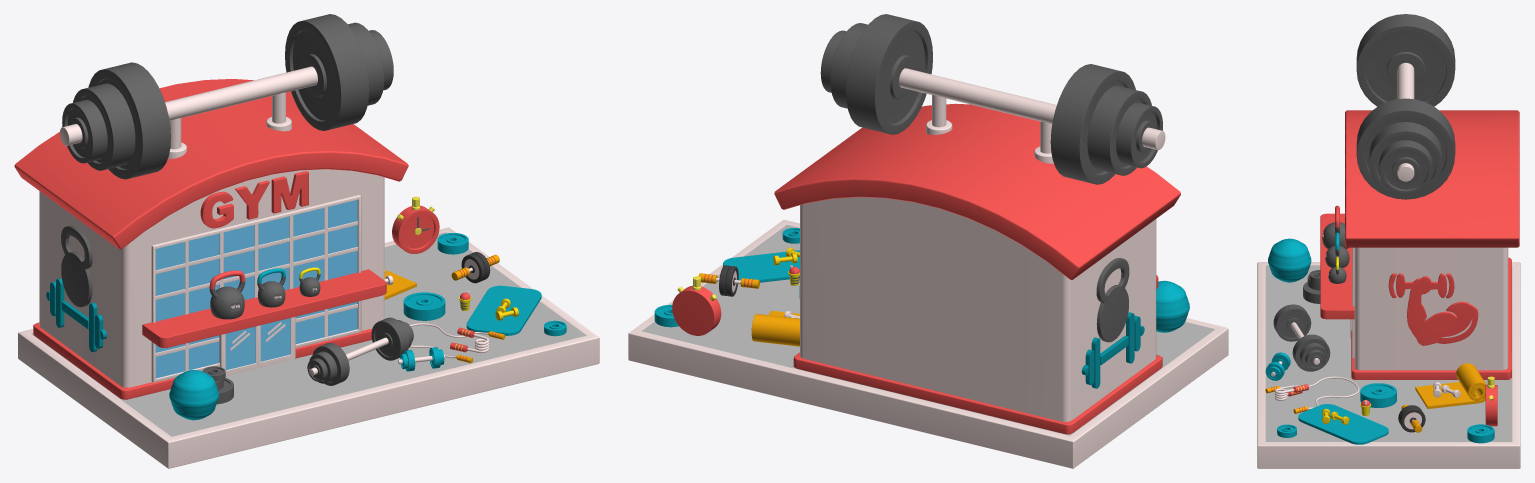
Rendered from Public_Island_18.glb.
The picture shows the model from 3 angles, left to right: view 1: azimuth 30°, elevation 25°; view 2: azimuth 150°, elevation 25°; view 3: azimuth 270°, elevation 25°; orthographic projection. The views are drawn at different scales.
Visible parts, largest first — view 1: Public_18_Gym_1, Public_18_Base_1, Public_18_Gym_Sign_1, Public_18_Barbell_1, Public_18_Yoga_Mat_1, Public_18_Fitness_Ball_1, Public_18_Stopwatch_1, Public_18_Kettlebell_1, Public_18_Weight_4, Public_18_Roller_Wheel_1, Public_18_Kettlebell_2, Public_18_Barbell_2 (+1 smaller); view 2: Public_18_Gym_1, Public_18_Base_1, Public_18_Gym_Sign_1, Public_18_Stopwatch_1, Public_18_Yoga_Mat_1, Public_18_Fitness_Ball_1, Public_18_Yoga_Mat_2, Public_18_Roller_Wheel_1; view 3: Public_18_Gym_1, Public_18_Base_1, Public_18_Gym_Sign_2, Public_18_Barbell_1, Public_18_Yoga_Mat_1, Public_18_Yoga_Mat_2, Public_18_Fitness_Ball_1, Public_18_Weight_4, Public_18_Roller_Wheel_1, Public_18_Stopwatch_1, Public_18_Kettlebell_1, Public_18_Barbell_2 (+5 smaller).
Boxes of the visible parts, x1=… form: Public_18_Gym_1: x1=14, y1=14, x2=408, y2=399; Public_18_Base_1: x1=18, y1=227, x2=599, y2=468; Public_18_Gym_Sign_1: x1=46, y1=225, x2=106, y2=352; Public_18_Barbell_1: x1=307, y1=317, x2=413, y2=385; Public_18_Yoga_Mat_1: x1=466, y1=285, x2=541, y2=335; Public_18_Fitness_Ball_1: x1=169, y1=370, x2=218, y2=420; Public_18_Stopwatch_1: x1=392, y1=196, x2=439, y2=253; Public_18_Kettlebell_1: x1=209, y1=270, x2=245, y2=319; Public_18_Weight_4: x1=403, y1=292, x2=445, y2=320; Public_18_Roller_Wheel_1: x1=451, y1=252, x2=499, y2=283; Public_18_Kettlebell_2: x1=257, y1=268, x2=285, y2=307; Public_18_Barbell_2: x1=398, y1=347, x2=444, y2=371; Public_18_Gym_1: x1=774, y1=14, x2=1180, y2=434; Public_18_Base_1: x1=628, y1=219, x2=1228, y2=468; Public_18_Gym_Sign_1: x1=1081, y1=258, x2=1144, y2=388; Public_18_Stopwatch_1: x1=672, y1=276, x2=721, y2=335; Public_18_Yoga_Mat_1: x1=723, y1=250, x2=799, y2=282; Public_18_Fitness_Ball_1: x1=1156, y1=280, x2=1189, y2=332; Public_18_Yoga_Mat_2: x1=751, y1=310, x2=799, y2=346; Public_18_Roller_Wheel_1: x1=698, y1=265, x2=759, y2=296; Public_18_Gym_1: x1=1320, y1=14, x2=1519, y2=379; Public_18_Base_1: x1=1257, y1=262, x2=1520, y2=468; Public_18_Gym_Sign_2: x1=1388, y1=273, x2=1478, y2=345; Public_18_Barbell_1: x1=1273, y1=304, x2=1330, y2=371; Public_18_Yoga_Mat_1: x1=1298, y1=404, x2=1388, y2=444; Public_18_Yoga_Mat_2: x1=1415, y1=363, x2=1486, y2=408; Public_18_Fitness_Ball_1: x1=1268, y1=238, x2=1311, y2=282; Public_18_Weight_4: x1=1360, y1=383, x2=1396, y2=407; Public_18_Roller_Wheel_1: x1=1398, y1=404, x2=1425, y2=432; Public_18_Stopwatch_1: x1=1485, y1=376, x2=1497, y2=426; Public_18_Kettlebell_1: x1=1322, y1=205, x2=1348, y2=249; Public_18_Barbell_2: x1=1265, y1=352, x2=1290, y2=380.
Bounding box in the file's own units: 22.01 × 15.23 × 12.75.
27 materials, 27 textured.
